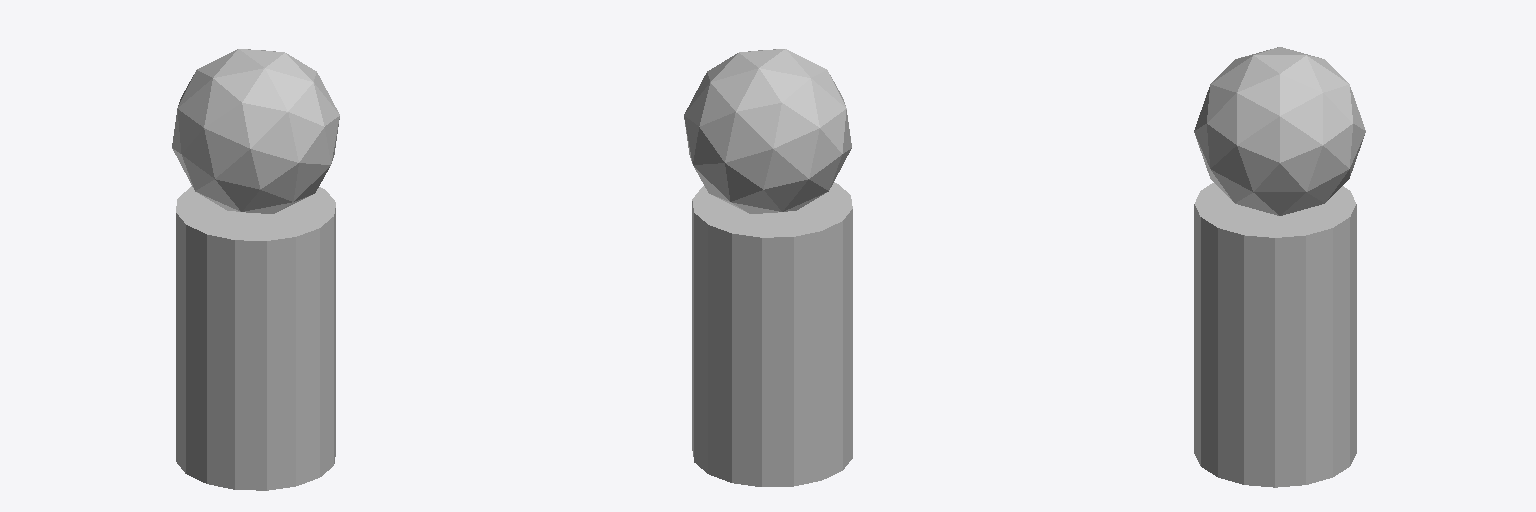
File: soldier.obj
The picture shows the model from 3 angles: view 1: azimuth 30°, elevation 25°; view 2: azimuth 150°, elevation 25°; view 3: azimuth 270°, elevation 25°; orthographic projection.
Visible parts, largest first — view 1: Cylinder; view 2: Cylinder; view 3: Cylinder.
Part boxes in pixels (left/top/right/bottom): Cylinder: left=172, top=49, right=339, bottom=490; Cylinder: left=684, top=49, right=852, bottom=486; Cylinder: left=1194, top=47, right=1365, bottom=487.
Size of the model in its own units: 1.16 by 2.95 by 1.16.